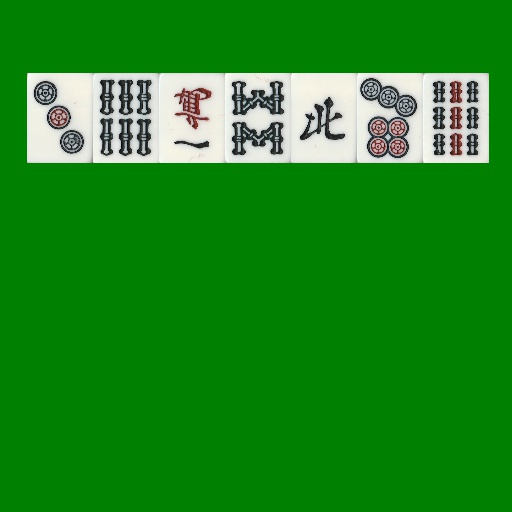1m: (159, 73, 225, 163)
3p: (27, 73, 93, 163)
6s: (93, 73, 159, 163)
7p: (357, 73, 423, 163)
8s: (225, 73, 291, 163)
9s: (423, 73, 489, 163)
north: (291, 73, 357, 163)
